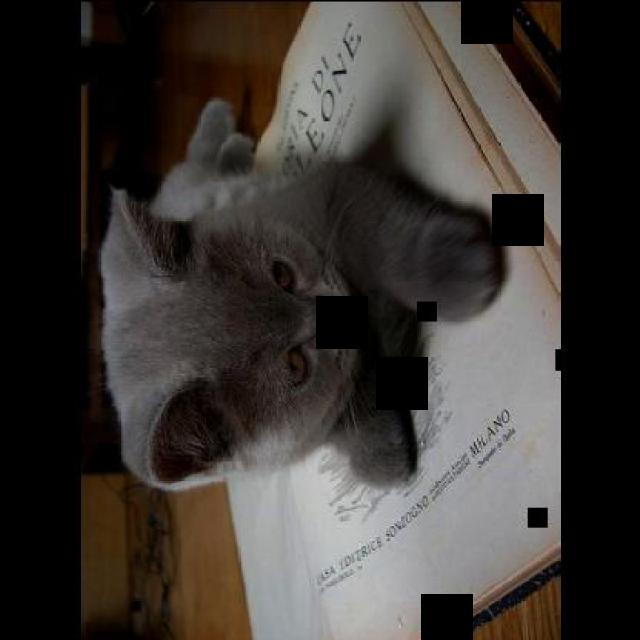unauthorized: (97, 95, 508, 500)
